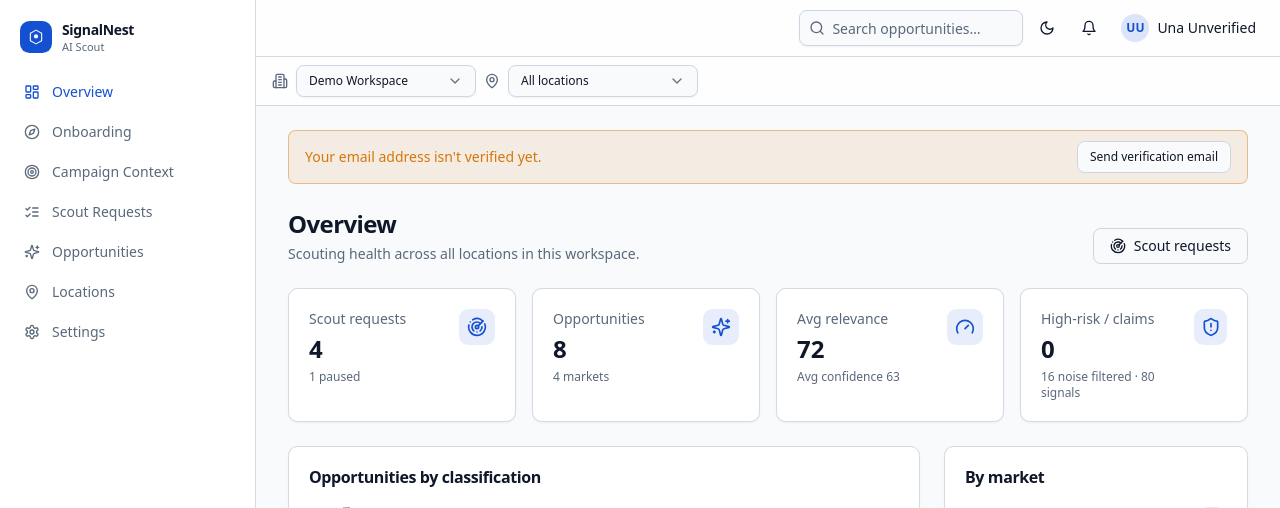
Test: the email-verification banner › the rate limit gets calm copy of its own, never the server text
The image size is (1280, 508).
Click the button "Send verification email". click: (1154, 157)
box: 1077,141 -> 1231,173
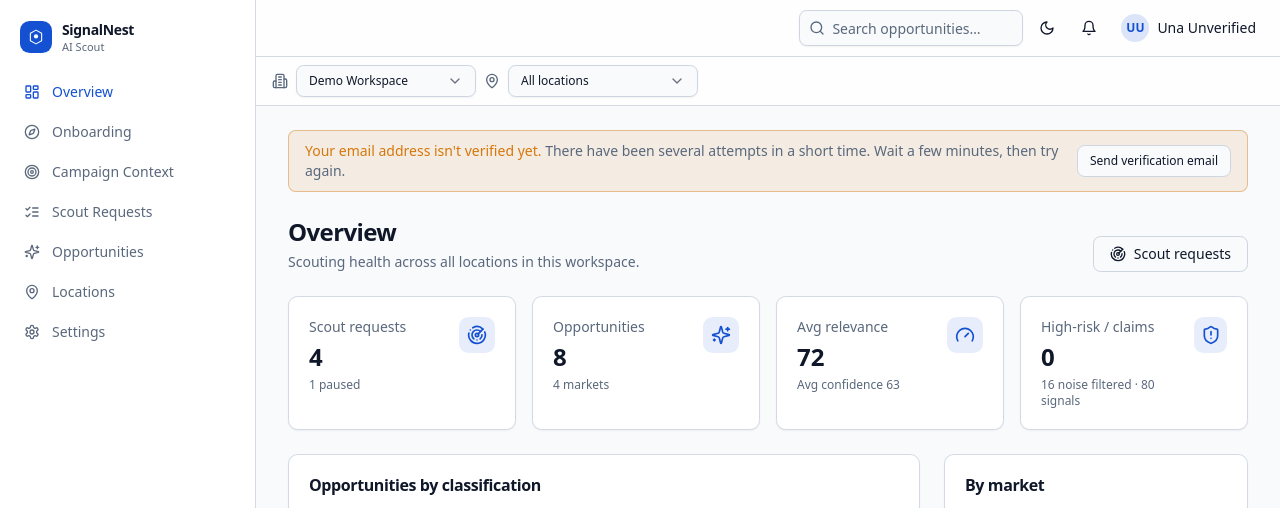
Result: the text "There have been several attempts in a short time. Wait a few minutes, then try again." is shown at 305,141 -> 1058,180
